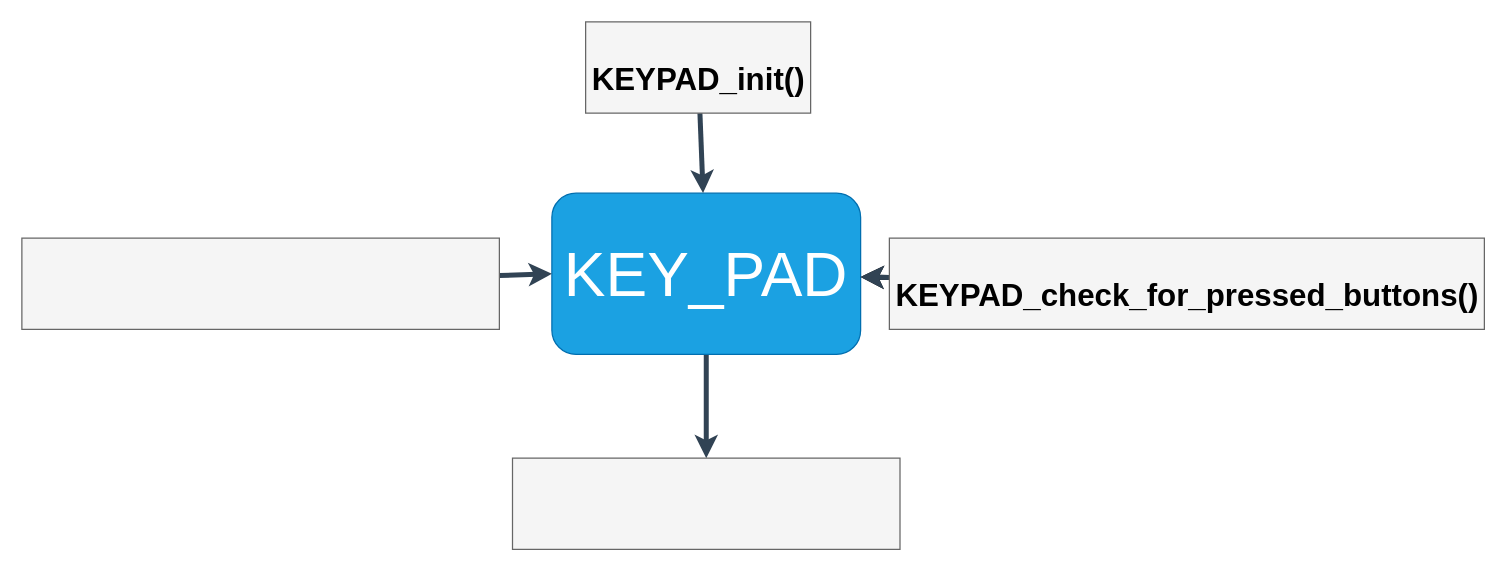
Some shapes in this 1506 by 571 pixel diagram are drawn without their labels. The shapes that lost their labels are listed below. From the top down, each one's box as (x1, y1, x2, y2) in pixels, then its label:
(21, 237, 499, 329): KEYPAD_get_presed_buttons()
(511, 457, 900, 549): KEYPAD_run_periodinc()
